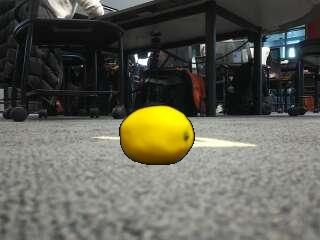lemon: (120, 106, 194, 164)
